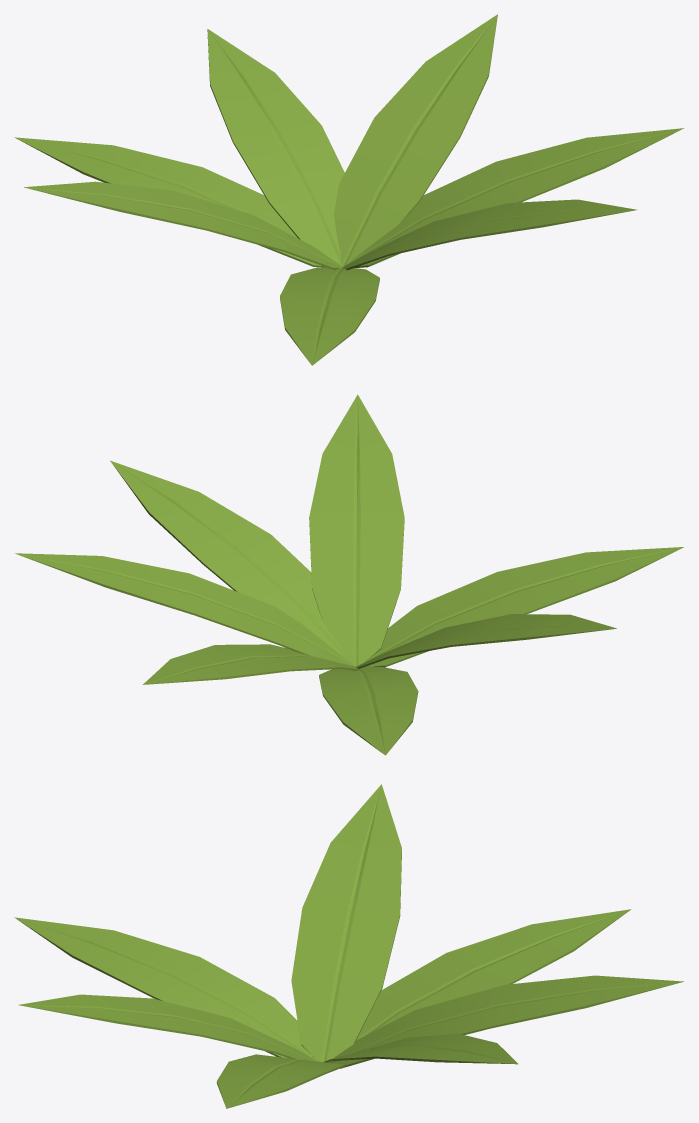
The model's file is longLeaf_set.fbx.
The picture shows the model from 3 angles, top to bottom: view 1: azimuth 30°, elevation 25°; view 2: azimuth 150°, elevation 25°; view 3: azimuth 270°, elevation 25°; orthographic projection. The views are drawn at different scales.
Parts seen in each view (by area): view 1: longLeaf_set_geo; view 2: longLeaf_set_geo; view 3: longLeaf_set_geo.
Boxes of the visible parts, x1=… form: longLeaf_set_geo: x1=14, y1=14, x2=684, y2=365; longLeaf_set_geo: x1=15, y1=394, x2=683, y2=755; longLeaf_set_geo: x1=14, y1=784, x2=683, y2=1108.
Bounding box in the file's own units: 128 × 27.37 × 123.
1 material, 1 textured.
